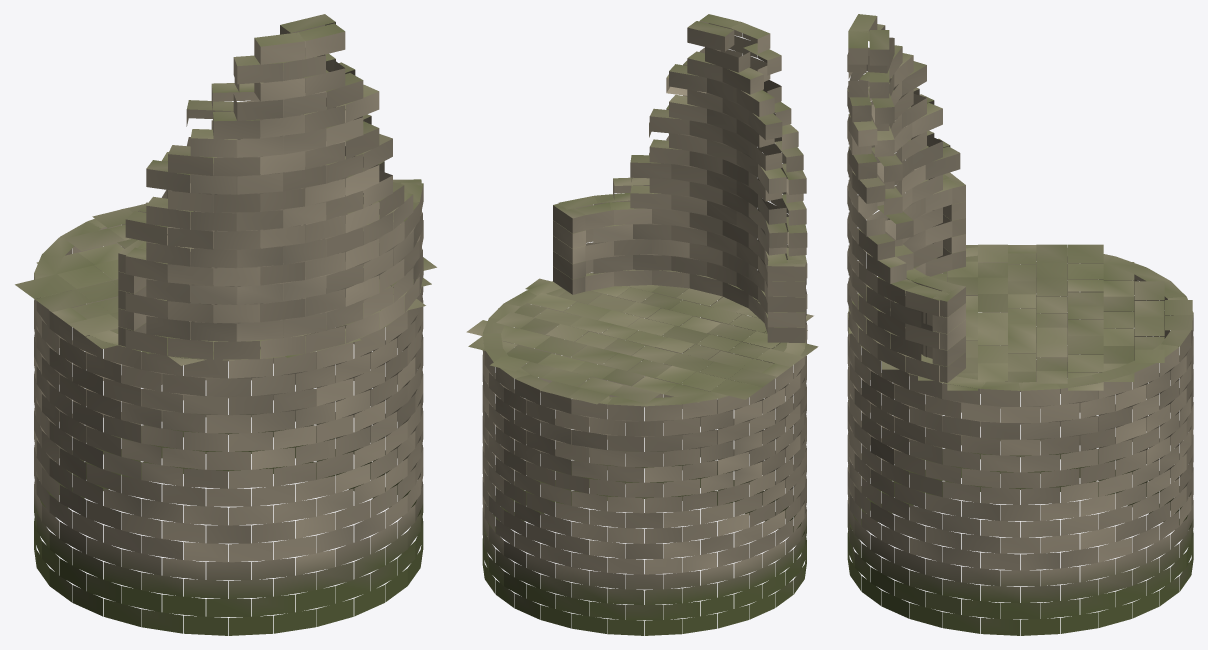
Rendered from citadel_bastion_tall_mid.glb.
3 renders of one model, left to right at view 1: azimuth 30°, elevation 25°; view 2: azimuth 150°, elevation 25°; view 3: azimuth 270°, elevation 25°, orthographic. The views are drawn at different scales.
Parts seen in each view (by area): view 1: citadel_bastion_tall_mid; view 2: citadel_bastion_tall_mid; view 3: citadel_bastion_tall_mid.
Part boxes in pixels (bbox=[...]): citadel_bastion_tall_mid: bbox=[15, 14, 436, 635]; citadel_bastion_tall_mid: bbox=[466, 14, 818, 635]; citadel_bastion_tall_mid: bbox=[847, 14, 1193, 635].
Bounding box in the file's own units: 42.28 × 70.37 × 42.25.
